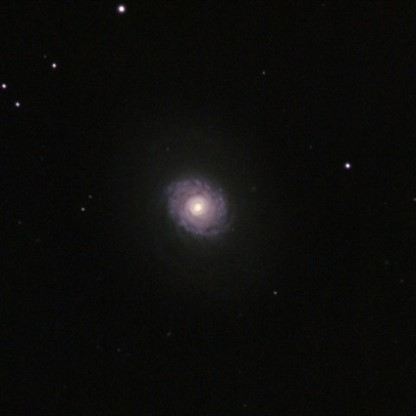Messier 94: (121, 132, 264, 277)
